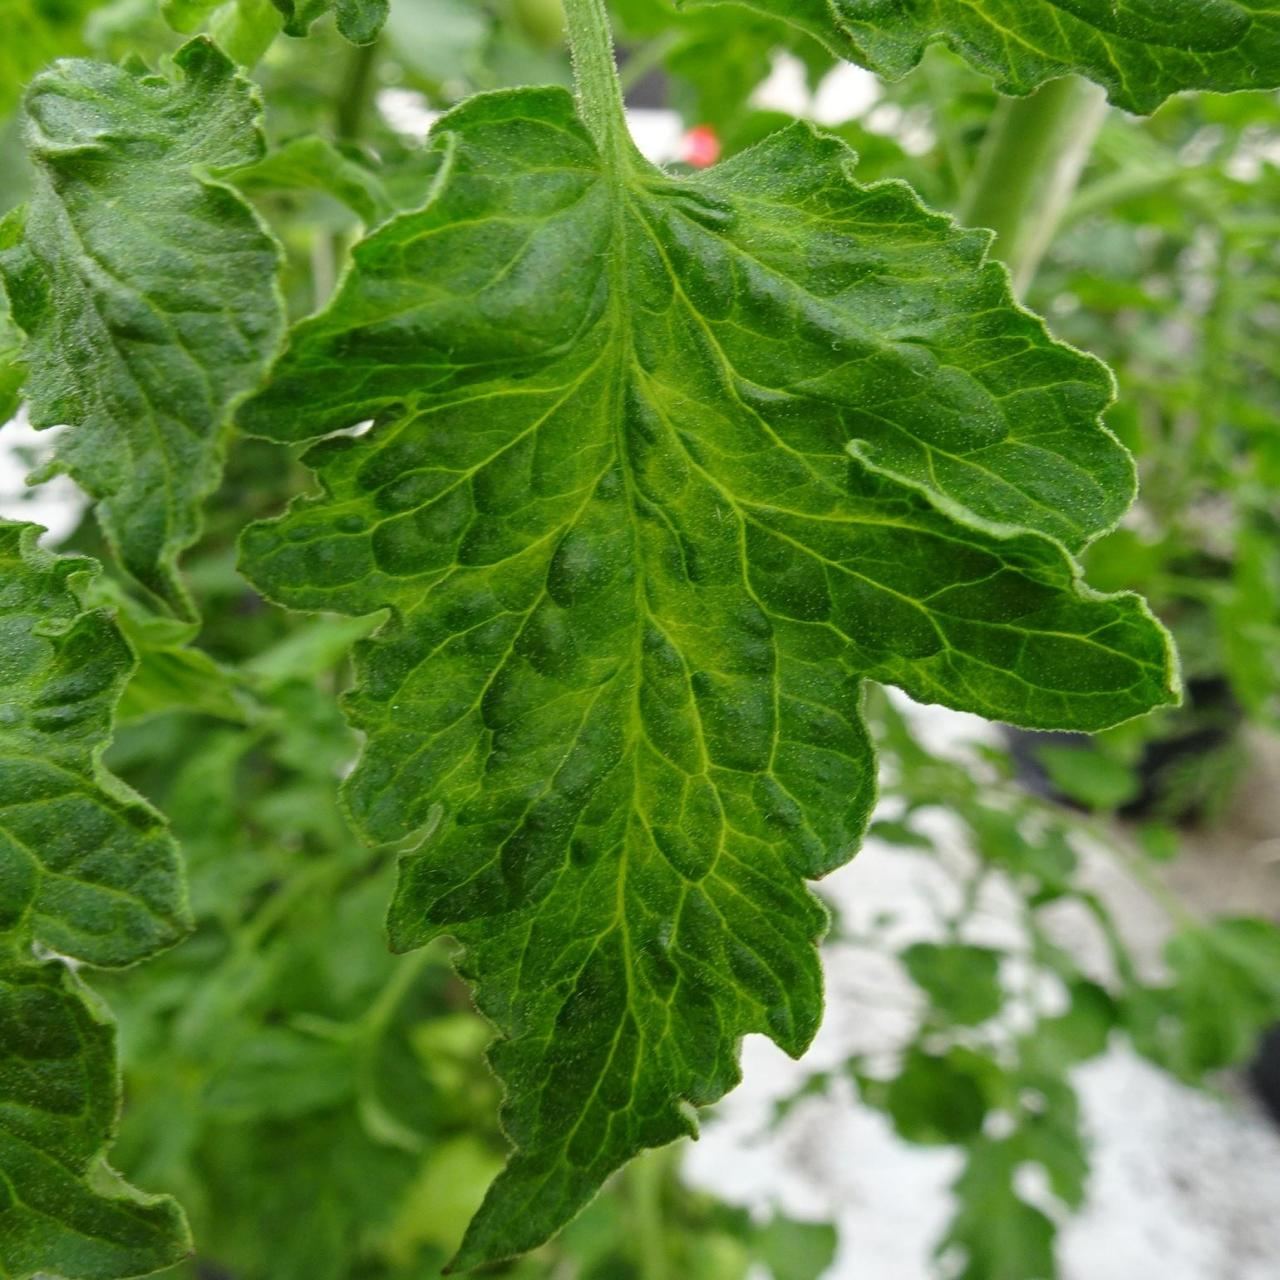T_L_R: (233, 1, 1185, 1280), (4, 39, 285, 619)
